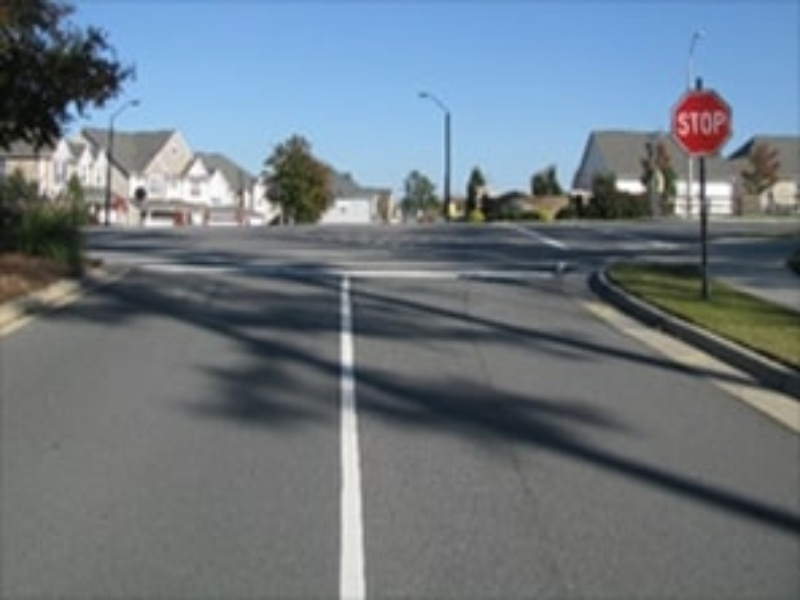stop sign: (666, 88, 736, 161)
